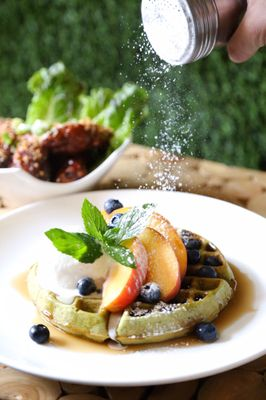sushi: (0, 120, 134, 210)
